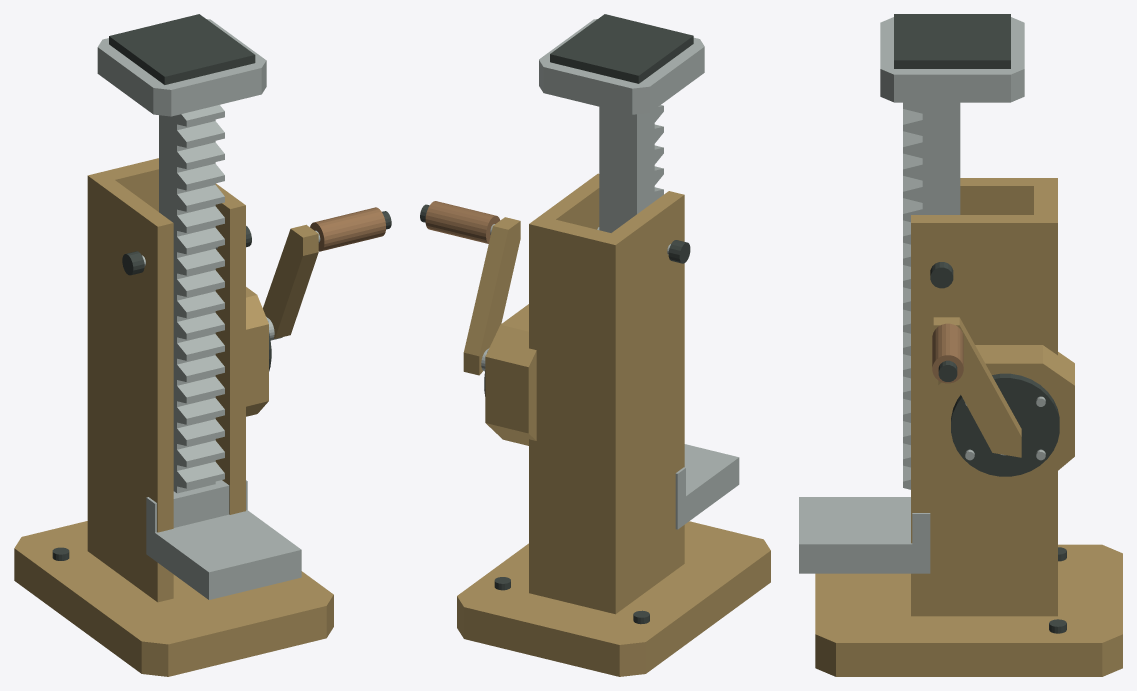
3 renders of one model, left to right at view 1: azimuth 30°, elevation 25°; view 2: azimuth 150°, elevation 25°; view 3: azimuth 270°, elevation 25°, orthographic. The views are drawn at different scales.
Parts seen in each view (by area): view 1: WholeTallFrontOpenGuideHousing, WholeClippedCornerGroundSole, WholeEighteenToothUprightRack, WholeLowToeAndContinuousRisingHeel, WholeCompleteHeadTopPad, WholeBroadUpperRackHead, WholeContinuousOffsetCrank, WholeCompactSideGearbox, WholeFullCrankHandGrip; view 2: WholeTallFrontOpenGuideHousing, WholeClippedCornerGroundSole, WholeEighteenToothUprightRack, WholeCompleteHeadTopPad, WholeBroadUpperRackHead, WholeCompactSideGearbox, WholeContinuousOffsetCrank, WholeLowToeAndContinuousRisingHeel, WholeFullCrankHandGrip; view 3: WholeTallFrontOpenGuideHousing, WholeClippedCornerGroundSole, WholeLowToeAndContinuousRisingHeel, WholeEighteenToothUprightRack, WholeCompactSideGearbox, WholeCompleteHeadTopPad, WholeBroadUpperRackHead, WholeFullOuterGearcaseCover, WholeContinuousOffsetCrank, WholeFullCrankHandGrip, WholeRetainerEndCap1.
Boxes of the visible parts, <box> form: WholeTallFrontOpenGuideHousing: <box>87,158,245,602</box>; WholeClippedCornerGroundSole: <box>14,521,333,676</box>; WholeEighteenToothUprightRack: <box>159,105,224,493</box>; WholeLowToeAndContinuousRisingHeel: <box>146,480,301,599</box>; WholeCompleteHeadTopPad: <box>109,14,255,84</box>; WholeBroadUpperRackHead: <box>97,19,266,116</box>; WholeContinuousOffsetCrank: <box>263,224,318,338</box>; WholeCompactSideGearbox: <box>246,287,268,416</box>; WholeFullCrankHandGrip: <box>310,207,385,251</box>; WholeTallFrontOpenGuideHousing: <box>529,173,684,614</box>; WholeClippedCornerGroundSole: <box>457,521,770,676</box>; WholeEighteenToothUprightRack: <box>599,105,663,232</box>; WholeCompleteHeadTopPad: <box>550,14,693,83</box>; WholeBroadUpperRackHead: <box>539,19,704,114</box>; WholeCompactSideGearbox: <box>485,304,536,445</box>; WholeContinuousOffsetCrank: <box>463,217,520,375</box>; WholeLowToeAndContinuousRisingHeel: <box>675,444,739,529</box>; WholeFullCrankHandGrip: <box>425,201,500,243</box>; WholeTallFrontOpenGuideHousing: <box>911,178,1057,616</box>; WholeClippedCornerGroundSole: <box>815,544,1122,676</box>; WholeLowToeAndContinuousRisingHeel: <box>799,497,930,573</box>; WholeEighteenToothUprightRack: <box>903,102,960,489</box>; WholeCompactSideGearbox: <box>938,345,1074,487</box>; WholeCompleteHeadTopPad: <box>894,14,1010,68</box>; WholeBroadUpperRackHead: <box>880,17,1024,102</box>; WholeFullOuterGearcaseCover: <box>951,373,1059,476</box>; WholeContinuousOffsetCrank: <box>933,317,1021,457</box>; WholeFullCrankHandGrip: <box>932,323,963,383</box>; WholeRetainerEndCap1: <box>930,262,953,288</box>.
Bounding box in the file's own units: 0.529 × 0.954 × 0.474.
